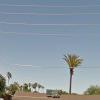Palm tree: (57, 38, 83, 95)
